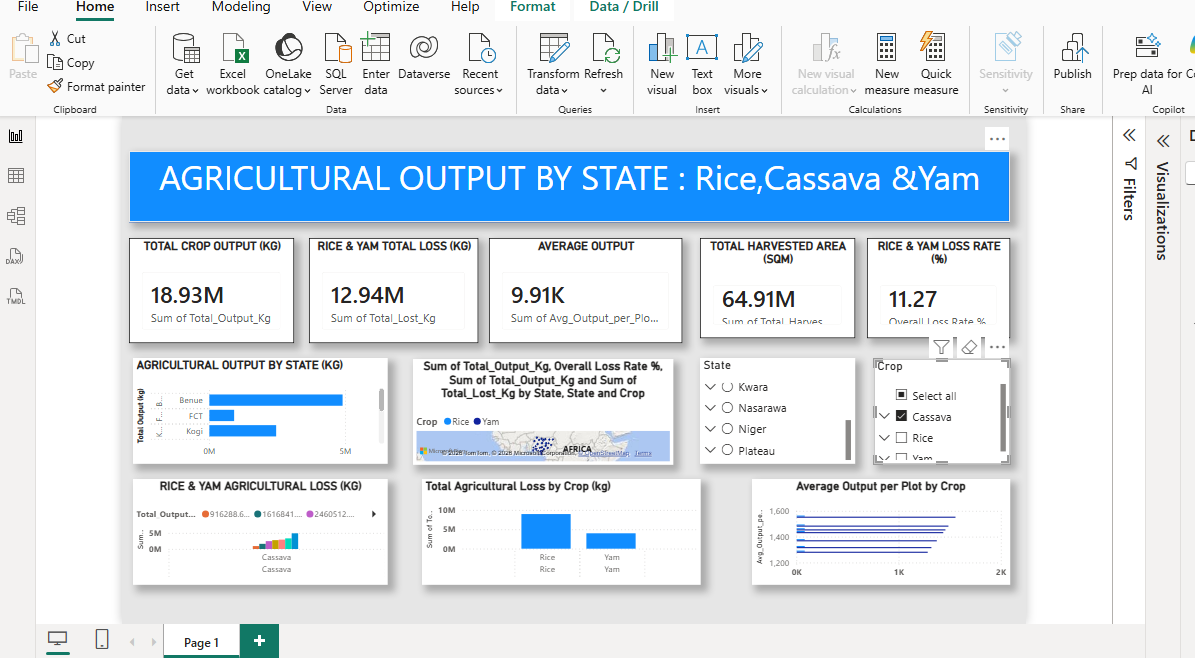

The page's visual inventory and layout, read from the dashboard file:
{"tool":"powerbi","page":{"name":"Page 1","canvas":[1280,720],"ordinal":0},"visuals":[{"type":"textbox","box":[10.1,49,1248.5,100.8],"z":0},{"type":"cardVisual","title":"TOTAL CROP OUTPUT (KG)","fields":{"Data":["Sum(tblCassavaNC.Total_Output_Kg)","Sum(tblCassavaNC.Total_Output_Kg)"]},"box":[9.9,172.9,233.9,148.8],"z":1000},{"type":"cardVisual","title":"RICE & YAM TOTAL LOSS (KG)","fields":{"Data":["Sum(tblRiceYamOutput.Total_Lost_Kg)"]},"box":[265,172.9,239.5,148.8],"z":2000},{"type":"cardVisual","title":"AVERAGE OUTPUT","fields":{"Data":["Sum(tblCassavaNC.Avg_Output_per_Plot_Kg)","Sum(tblCassavaNC.Avg_Output_per_Plot_Kg)"]},"box":[520.2,172.9,273.5,148.8],"z":3000},{"type":"cardVisual","title":"TOTAL HARVESTED AREA (SQM) ","fields":{"Data":["Sum(tblCassavaNC.Total_Harvested_Area_SQM)","Sum(tblCassavaNC.Total_Harvested_Area_SQM)"]},"box":[819.2,172.9,219.7,141.7],"z":4000},{"type":"cardVisual","title":"RICE & YAM LOSS RATE (%)","fields":{"Data":["tblRiceYamOutput.Overall Loss Rate %","tblRiceYamOutput.Overall Loss Rate %"]},"box":[1055.9,172.9,202.7,141.7],"z":5000},{"type":"clusteredBarChart","title":"AGRICULTURAL OUTPUT BY STATE (KG)","fields":{"Category":["tblCassavaNC.State","tblCassavaNC.State"],"Y":["Sum(tblCassavaNC.Total_Output_Kg)","Sum(tblCassavaNC.Total_Output_Kg)"]},"box":[15.6,343,361.4,150.2],"z":6000},{"type":"map","fields":{"Category":["tblRiceYamOutput.State","tblRiceYamOutput.State"],"Series":["tblRiceYamOutput.Crop"],"Size":["Sum(tblRiceYamOutput.Total_Output_Kg)"]},"box":[412.4,344.4,368.5,150.2],"z":7000},{"type":"clusteredColumnChart","title":"RICE & YAM AGRICULTURAL LOSS (KG)","fields":{"Category":["tblCassavaNC.Crop","tblCassavaNC.Crop"],"Y":["Sum(tblCassavaNC.Total_Output_Kg)"],"Series":["tblCassavaNC.Total_Output_Kg"]},"box":[15.6,514.5,361.4,150.2],"z":8000},{"type":"clusteredColumnChart","title":" Total Agricultural Loss by Crop (kg)","fields":{"Category":["tblALLcropoutput.Crop","tblALLcropoutput.Crop"],"Y":["Sum(tblALLcropoutput.Total_Lost_Kg)"]},"box":[425.2,514.5,394.6,149.8],"z":9000},{"type":"listSlicer","fields":{"Values":["tblCassavaNC.State","tblCassavaNC.State"]},"box":[819.2,343,219.7,150.2],"z":10000},{"type":"listSlicer","fields":{"Values":["tblCassavaNC.Crop","tblCassavaNC.Crop"]},"box":[1065.8,344.4,192.8,148.8],"z":11000},{"type":"clusteredBarChart","title":"Average Output per Plot by Crop","fields":{"Y":["CountNonNull(tblALLcropoutput.State)","Sum(tblCassavaNC.Avg_Output_per_Plot_Kg)"],"Category":["tblCassavaNC.Avg_Output_per_Plot_Kg"]},"box":[892.9,514.5,365.8,149.8],"z":12000}]}

Visuals, with their boxes on the page's 1280x720 design canvas (x1, y1, x2, y2). These are canvas units, not pixel positions in the 1195x658 screenshot, which may show the page scaled, cropped or inside an application window:
textbox: (left=10, top=49, right=1259, bottom=150)
"TOTAL CROP OUTPUT (KG)" cardVisual: (left=10, top=173, right=244, bottom=322)
"RICE & YAM TOTAL LOSS (KG)" cardVisual: (left=265, top=173, right=504, bottom=322)
"AVERAGE OUTPUT" cardVisual: (left=520, top=173, right=794, bottom=322)
"TOTAL HARVESTED AREA (SQM) " cardVisual: (left=819, top=173, right=1039, bottom=315)
"RICE & YAM LOSS RATE (%)" cardVisual: (left=1056, top=173, right=1259, bottom=315)
"AGRICULTURAL OUTPUT BY STATE (KG)" clusteredBarChart: (left=16, top=343, right=377, bottom=493)
map - tblRiceYamOutput.State x tblRiceYamOutput.State: (left=412, top=344, right=781, bottom=495)
"RICE & YAM AGRICULTURAL LOSS (KG)" clusteredColumnChart: (left=16, top=514, right=377, bottom=665)
" Total Agricultural Loss by Crop (kg)" clusteredColumnChart: (left=425, top=514, right=820, bottom=664)
listSlicer - tblCassavaNC.State x tblCassavaNC.State: (left=819, top=343, right=1039, bottom=493)
listSlicer - tblCassavaNC.Crop x tblCassavaNC.Crop: (left=1066, top=344, right=1259, bottom=493)
"Average Output per Plot by Crop" clusteredBarChart: (left=893, top=514, right=1259, bottom=664)
